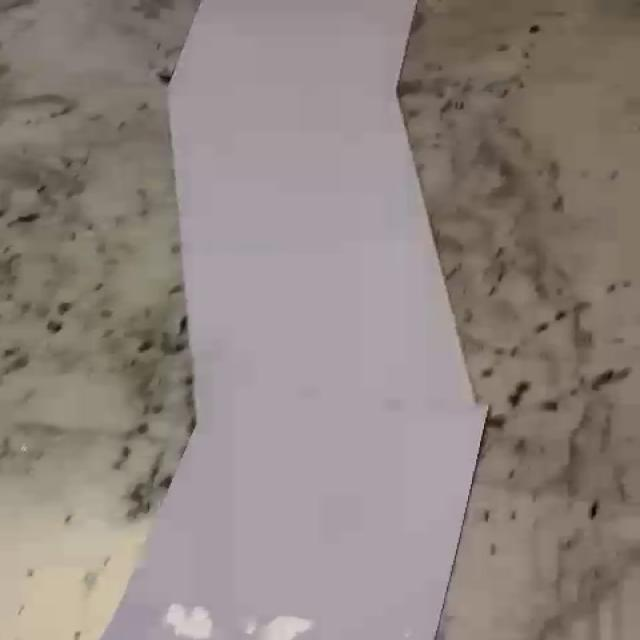road: (101, 0, 485, 640)
